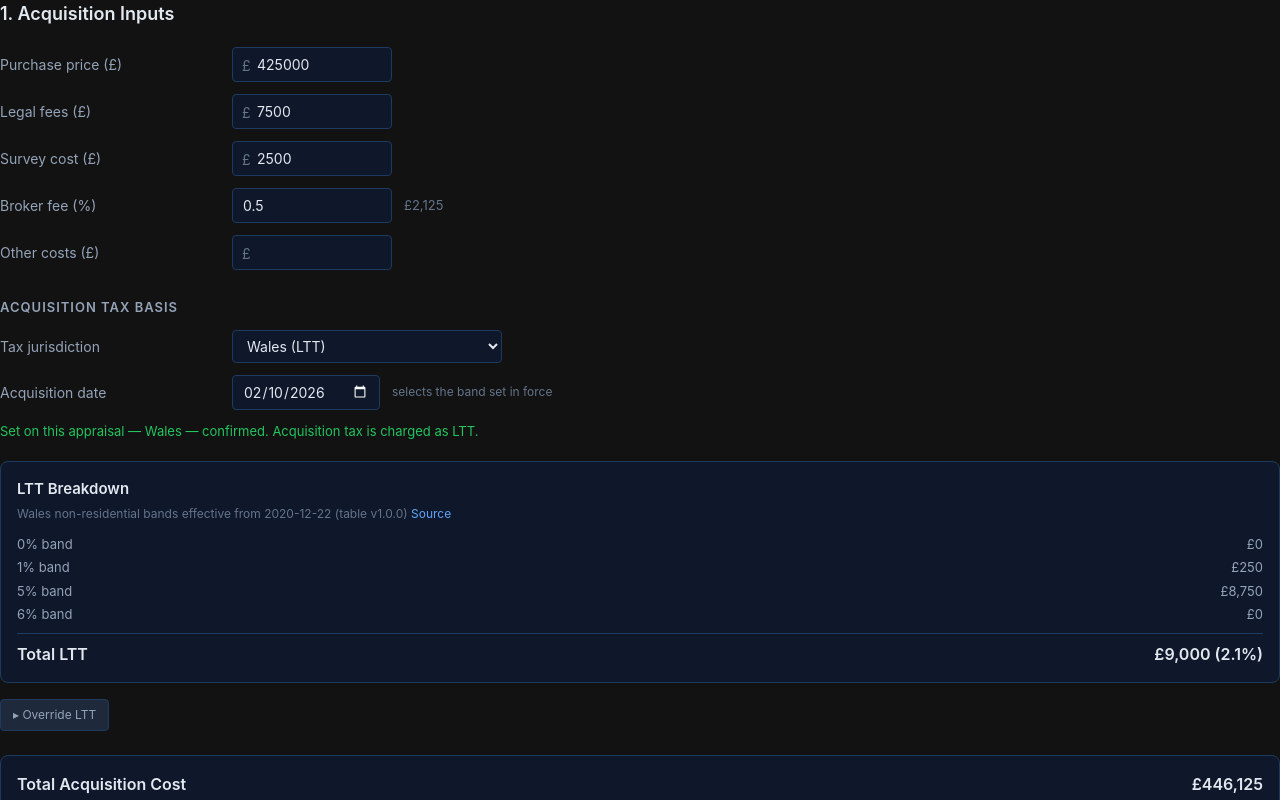
Scenario: AcquisitionPage — the tax override › opens on demand
This screenshot has width=1280, height=800.
What coordinates should you click on to do the following:
click the button "▸ Override LTT"
I would click on:
 (55, 714)
Its box is [0,698,109,730].
(page scrolled)
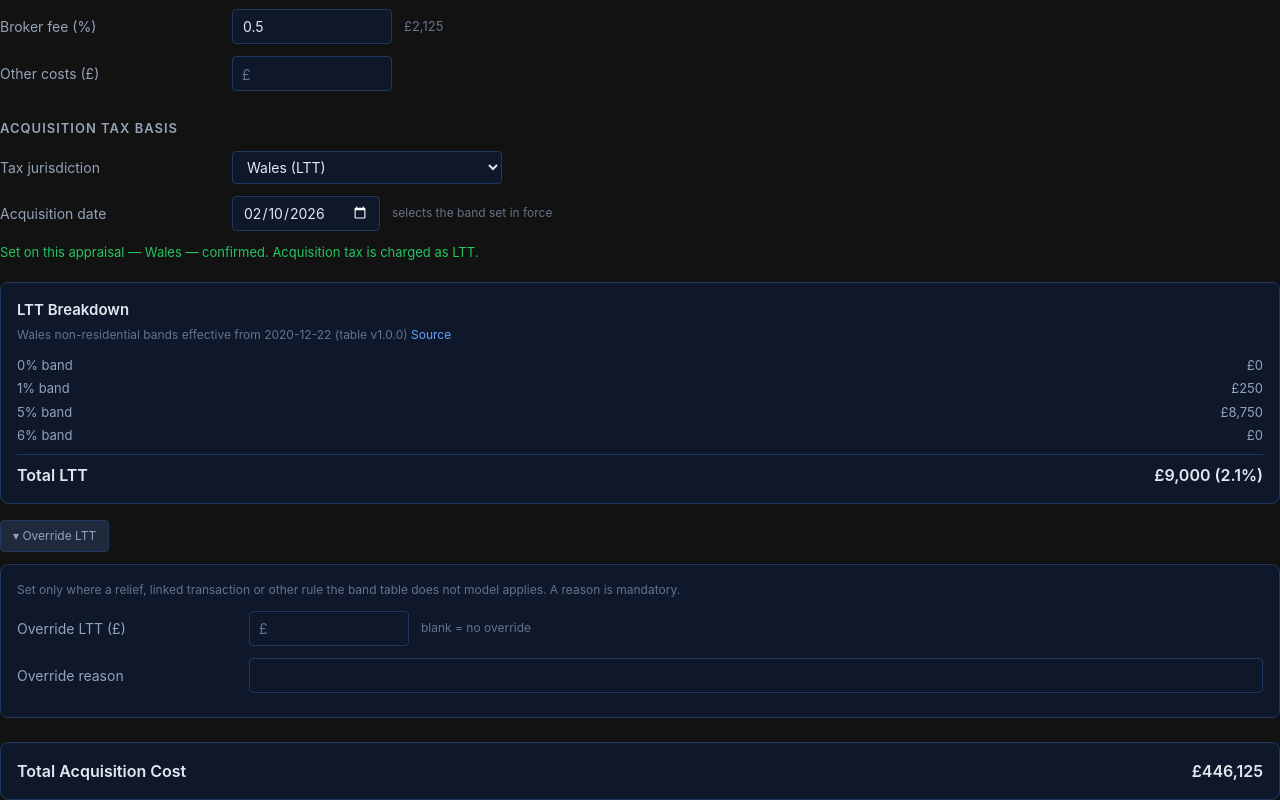
Result: the field labelled "Override reason" is shown at [249,658,1263,692]
Result: the number field labelled "Override LTT (£)" is shown at [249,610,409,646]
